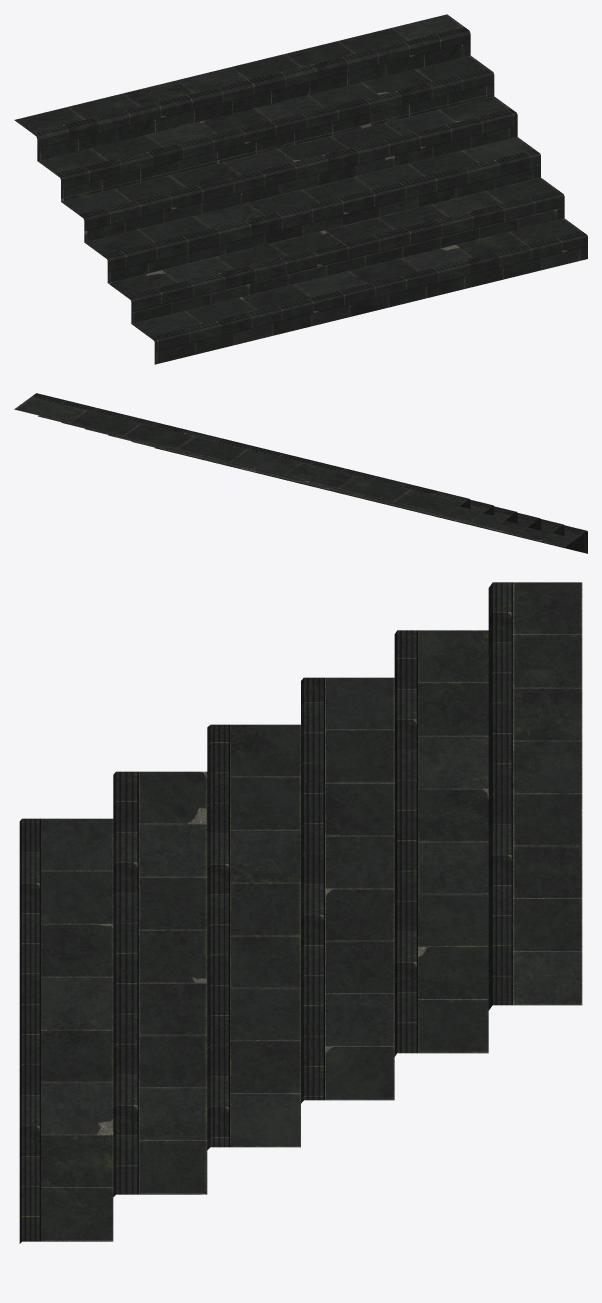
Rendered from urban_damaged_steps_floor.dae.
The picture shows the model from 3 angles, top to bottom: view 1: azimuth 30°, elevation 25°; view 2: azimuth 150°, elevation 25°; view 3: azimuth 270°, elevation 25°; orthographic projection. The views are drawn at different scales.
Parts seen in each view (by area): view 1: polySurface584, polySurface585; view 2: polySurface584, polySurface585; view 3: polySurface584, polySurface585.
Part boxes in pixels (x1,y1,x2,y2): polySurface584: [14, 14, 587, 364]; polySurface585: [32, 27, 587, 351]; polySurface584: [14, 397, 587, 553]; polySurface585: [31, 393, 587, 541]; polySurface584: [41, 582, 582, 1241]; polySurface585: [19, 582, 512, 1243].
Size of the model in its own units: 4 by 1.25 by 2.25.
